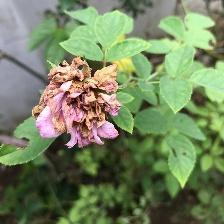rose: (33, 54, 122, 151)
